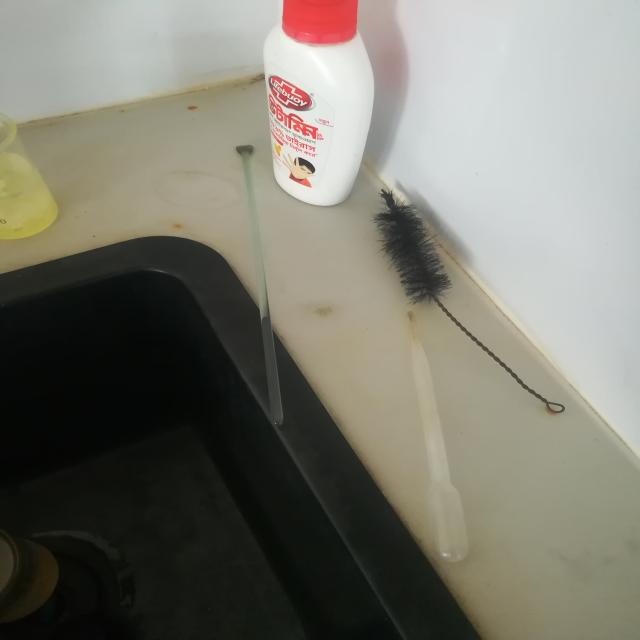Glass_Rod: (207, 131, 351, 443)
Pipette: (366, 292, 531, 594)
